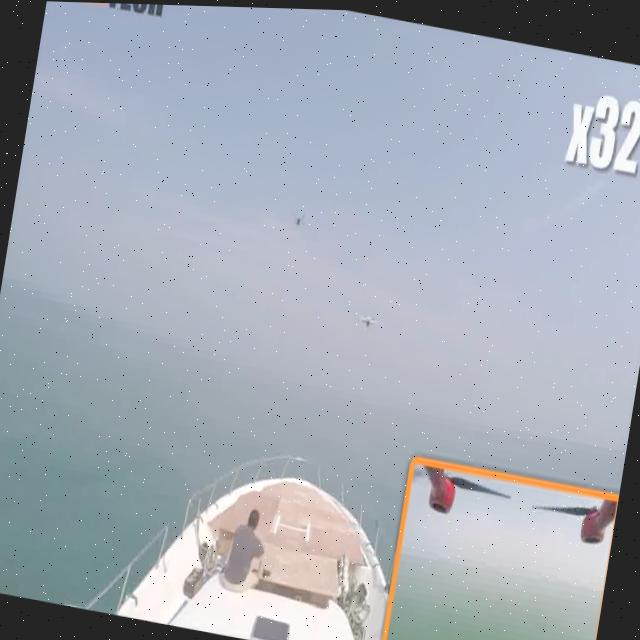drone: (352, 293, 382, 335), (286, 203, 311, 231)
